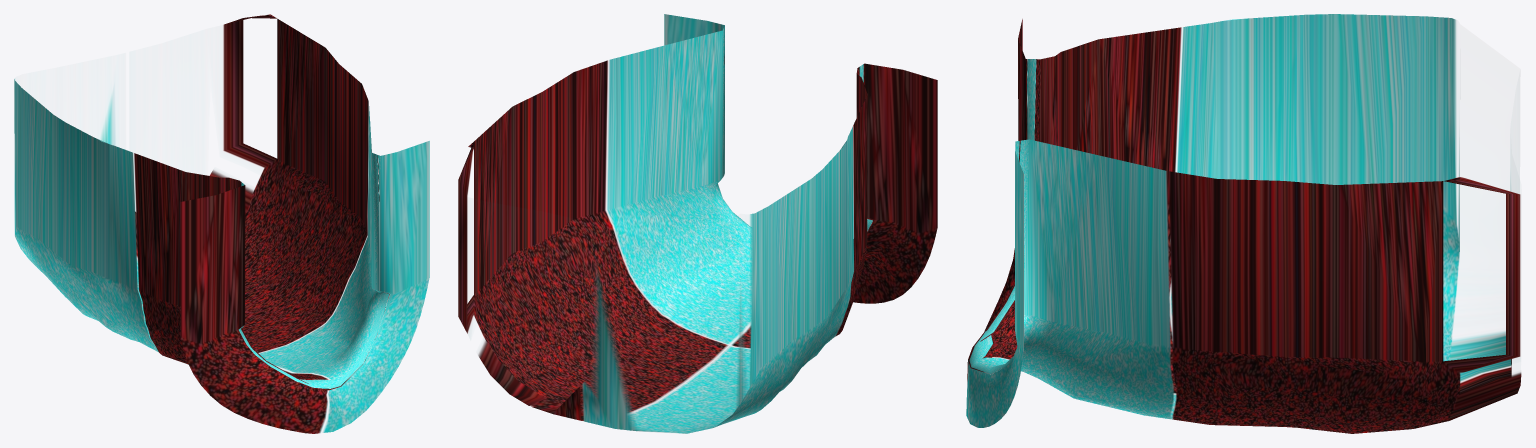
3 renders of one model, left to right at view 1: azimuth 30°, elevation 25°; view 2: azimuth 150°, elevation 25°; view 3: azimuth 270°, elevation 25°, orthographic. The views are drawn at different scales.
Visible parts, largest first — view 1: SM_Kuldra_Walls_Col_LOD0; view 2: SM_Kuldra_Walls_Col_LOD0; view 3: SM_Kuldra_Walls_Col_LOD0.
Part boxes in pixels (bbox=[...]): SM_Kuldra_Walls_Col_LOD0: bbox=[14, 14, 429, 433]; SM_Kuldra_Walls_Col_LOD0: bbox=[458, 14, 937, 433]; SM_Kuldra_Walls_Col_LOD0: bbox=[966, 14, 1521, 433].
Bounding box in the file's own units: 31.22 × 26.85 × 42.78.
1 material, 1 textured.
